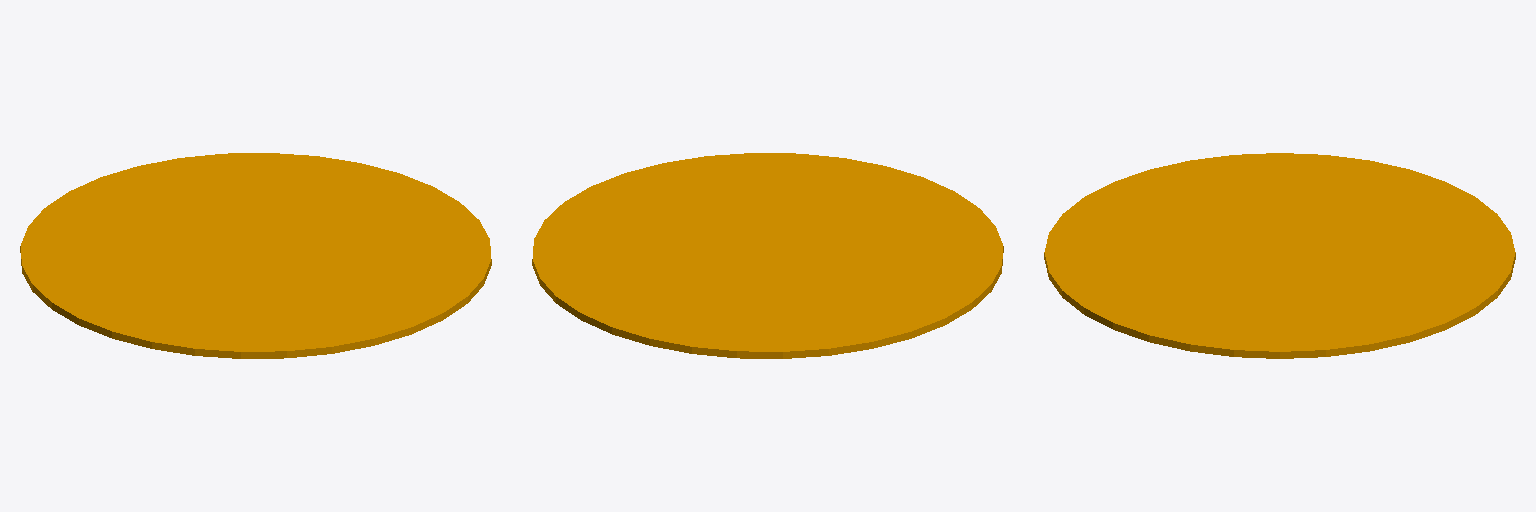
The robot description file, URDF, robot "plate":
<?xml version="1.0"?>
<robot name="plate" xmlns:xacro="http://www.ros.org/wiki/xacro">
  <link name="plate">
    <visual>
      <geometry>
        <cylinder length="0.001" radius="0.03"/>
      </geometry>
      <material name="black"/>
    </visual>
    <collision>
      <geometry>
        <cylinder length="0.001" radius="0.03"/>
      </geometry>
    </collision>
  </link>
</robot>

--- Render facts (derived) ---
3 views of the same robot in one strip: view 1: azimuth 30°, elevation 25°; view 2: azimuth 150°, elevation 25°; view 3: azimuth 270°, elevation 25° (orthographic).
Robot: plate — 1 links, 0 joints (none); root link plate; default pose: all joints at 0.
Links seen in each view (by area): view 1: plate; view 2: plate; view 3: plate.
Boxes of the visible links, x1,y1,x2,y2 form: plate: (20, 153, 491, 358); plate: (532, 153, 1003, 358); plate: (1044, 153, 1515, 358).
Size in the robot's own frame: 0.06 by 0.06 by 0.001 metres.
Geometry: primitives only (box / cylinder / sphere), no mesh files.
